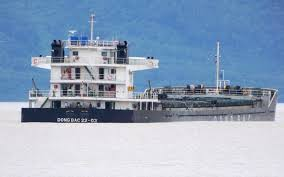tau_dansu: (30, 47, 278, 122)
